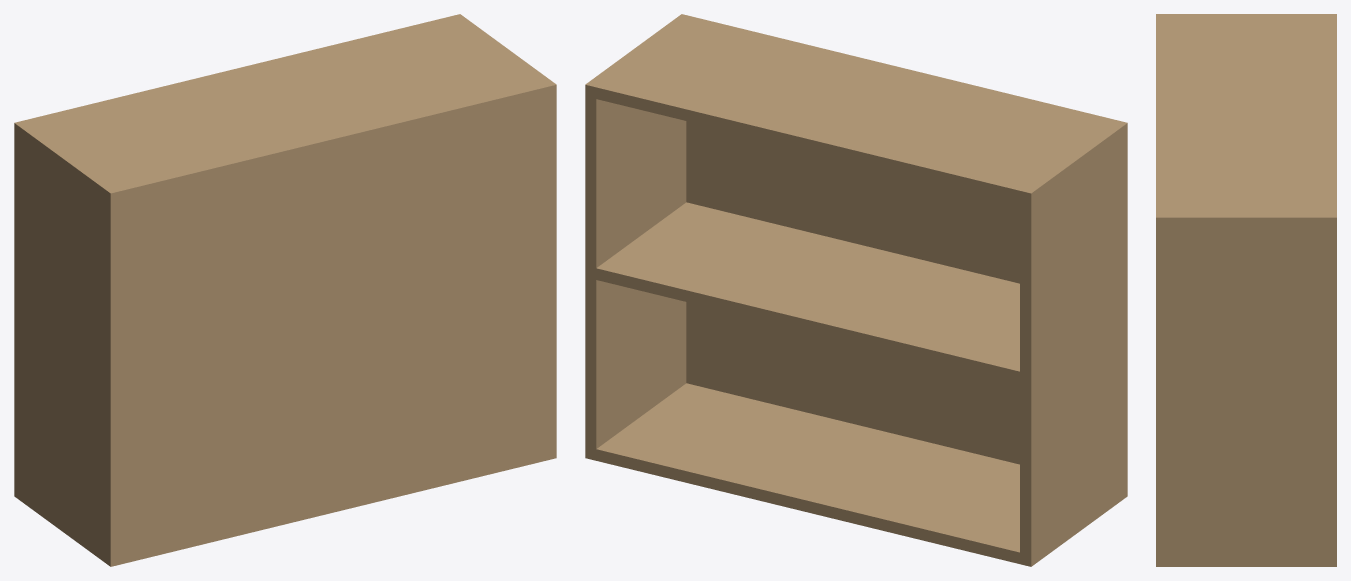
File: parametric-wall-shelf-3rd-0800x0300x0640.glb
3 views of the same model, side by side, from view 1: azimuth 30°, elevation 25°; view 2: azimuth 150°, elevation 25°; view 3: azimuth 270°, elevation 25° (orthographic). The views are drawn at different scales.
Parts seen in each view (by area): view 1: backboard, top, end:-1, end:1; view 2: backboard, top, end:-1, shelf, bottom, end:1; view 3: end:1, top, backboard, end:-1.
Boxes of the visible parts, bbox=[...] form: backboard: bbox=[104, 80, 556, 566]; top: bbox=[25, 17, 538, 185]; end:-1: bbox=[14, 120, 114, 561]; end:1: bbox=[449, 14, 549, 82]; backboard: bbox=[675, 14, 1127, 500]; top: bbox=[596, 21, 1109, 202]; end:-1: bbox=[1020, 125, 1121, 566]; shelf: bbox=[596, 202, 1019, 383]; bottom: bbox=[596, 383, 1019, 563]; end:1: bbox=[585, 18, 686, 460]; end:1: bbox=[1168, 212, 1336, 566]; top: bbox=[1168, 19, 1336, 212]; backboard: bbox=[1156, 14, 1168, 566]; end:-1: bbox=[1168, 14, 1336, 18].
Bounding box in the file's own units: 0.8 × 0.64 × 0.3.
